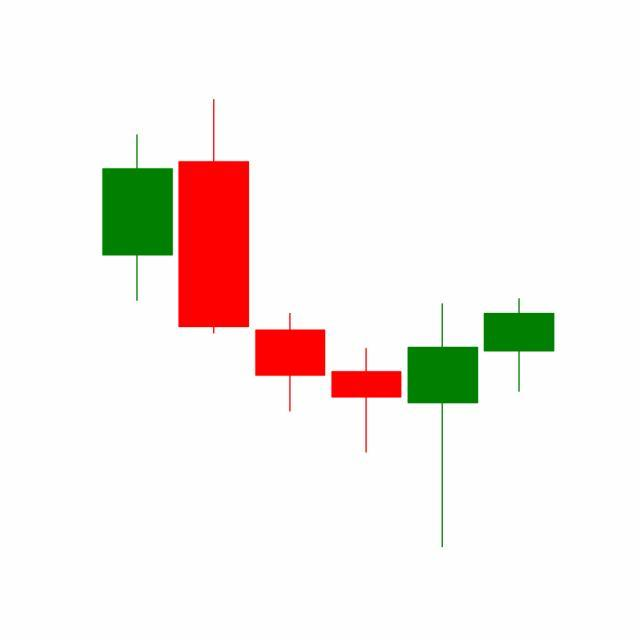Three Outside Up-Down: (326, 295, 555, 549)
